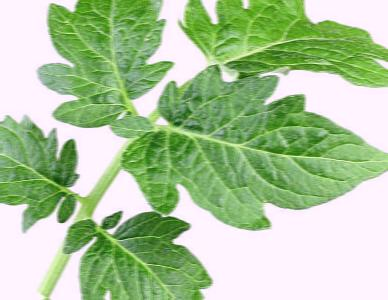Tomato leaf: (120, 68, 388, 254), (159, 0, 388, 118), (43, 0, 180, 153), (63, 189, 227, 300), (0, 114, 82, 244)
